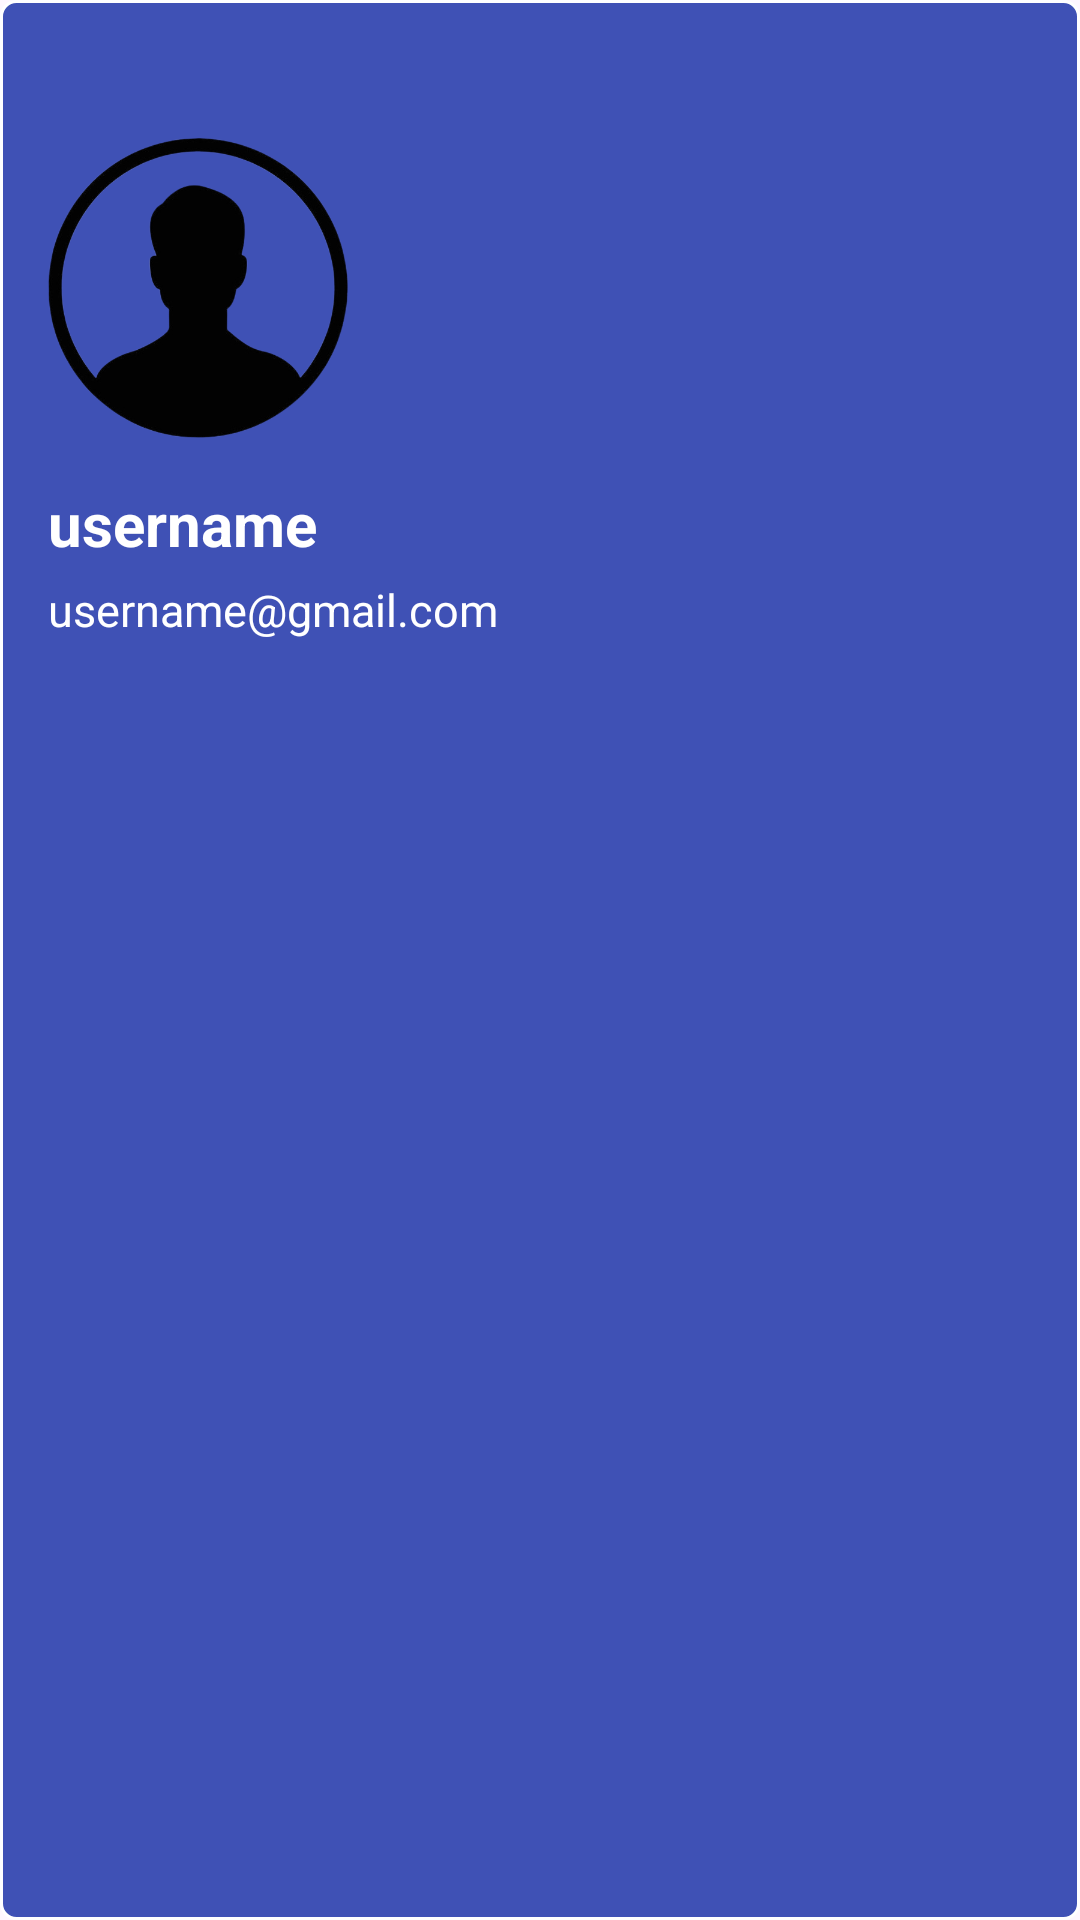

Icon bounding boxes for this 1080 x 1920 phone screenshot, format (left=x1, top=y1, right=x2, bottom=y2):
profile: (left=48, top=138, right=348, bottom=438)
